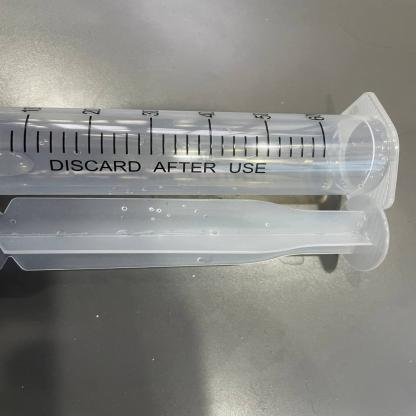wet: (1, 90, 402, 205), (3, 196, 397, 270)
